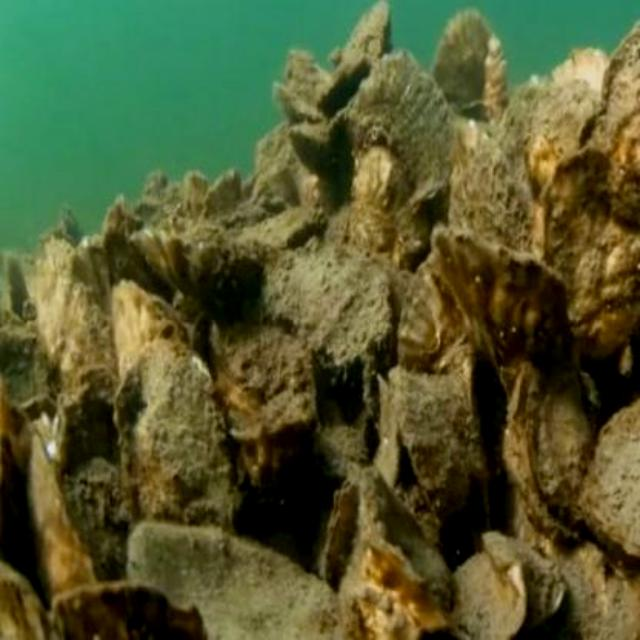Oyster-Closed: (129, 522, 361, 640), (438, 244, 591, 416), (111, 339, 234, 530), (349, 51, 453, 215), (258, 250, 390, 374), (520, 51, 613, 191), (23, 443, 96, 621), (212, 329, 324, 443), (387, 374, 469, 524), (528, 367, 596, 532), (447, 120, 532, 244), (134, 233, 274, 305), (396, 250, 462, 380), (587, 397, 640, 557), (0, 380, 42, 581), (54, 587, 209, 640), (596, 32, 640, 213), (113, 286, 188, 384), (438, 16, 496, 116), (30, 242, 75, 367), (327, 0, 399, 73), (355, 158, 405, 254), (319, 475, 356, 589), (0, 562, 49, 640)
Oyster-Open: (321, 67, 381, 144)
